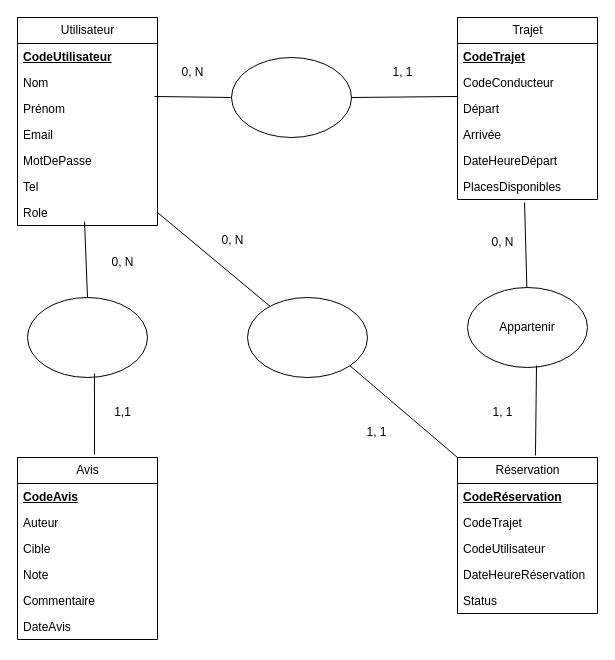
This 615x660 diagram has some shape labels left out. The shapes that lost their labels are listed below. From the top down, each one's centre as x and y in pixels, then its label:
At pixel 291 97: "Proposer".
At pixel 87 337: "Donner".
At pixel 307 337: "Détenir".
